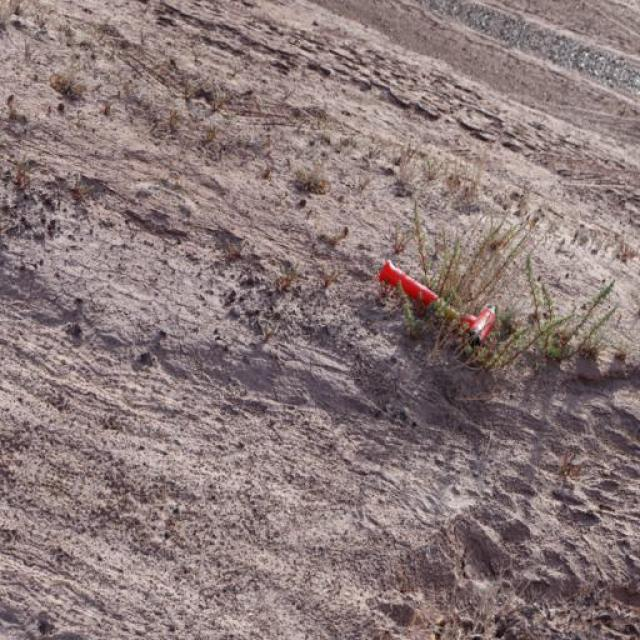mallet: (375, 258, 496, 346)
